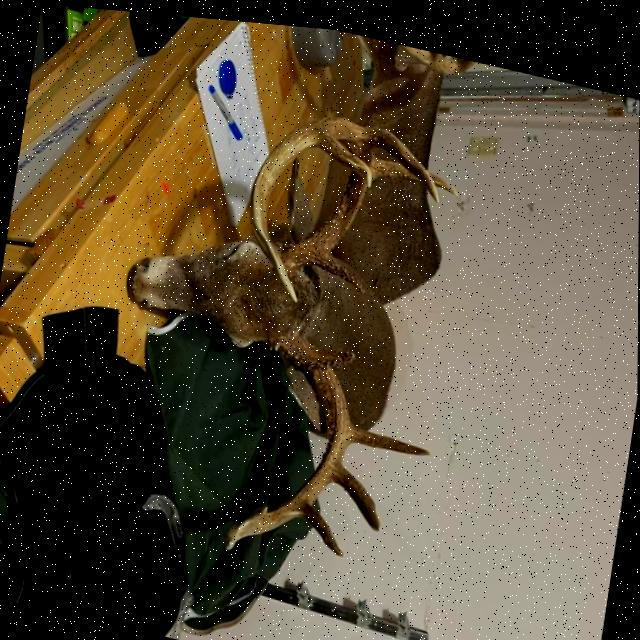L-F: (225, 328, 352, 546)
L-G1: (317, 340, 357, 363)
L-G2: (350, 417, 433, 448)
L-G3: (331, 456, 382, 524)
L-G4: (300, 498, 347, 550)
R-G1: (313, 247, 367, 286)
R-G3: (362, 118, 441, 196)
R-G4: (316, 132, 373, 181)
